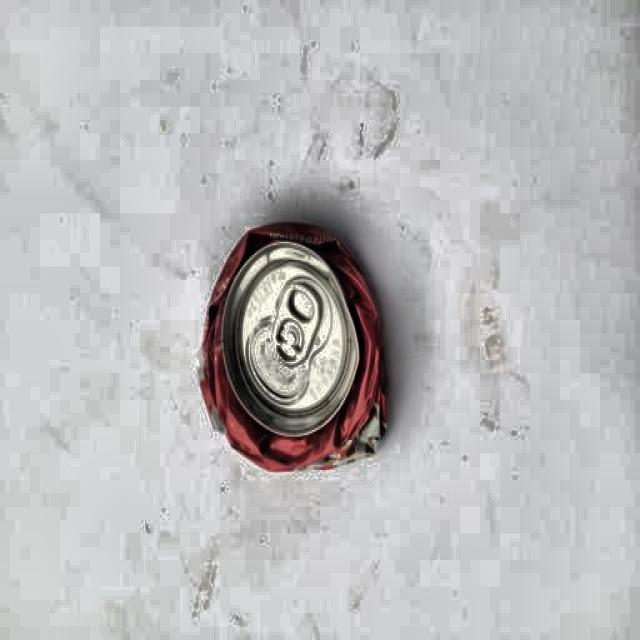metal: (196, 220, 391, 468)
